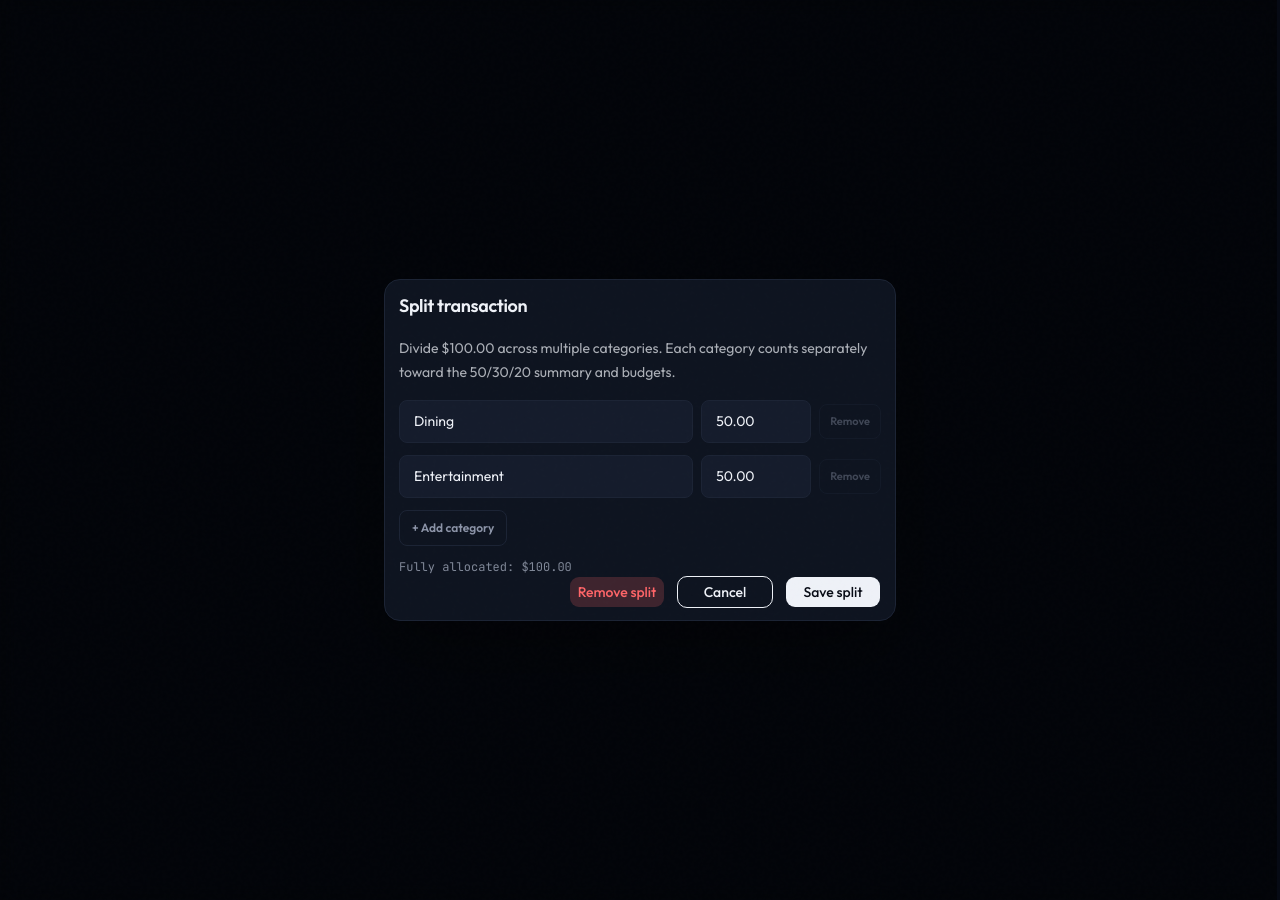
Test: SplitTransactionDialog › auto-fixes while a freshly added row is still blank, leaving that row untouched
Click the button "+ Add category" at (453, 528), box [399,510,507,546]
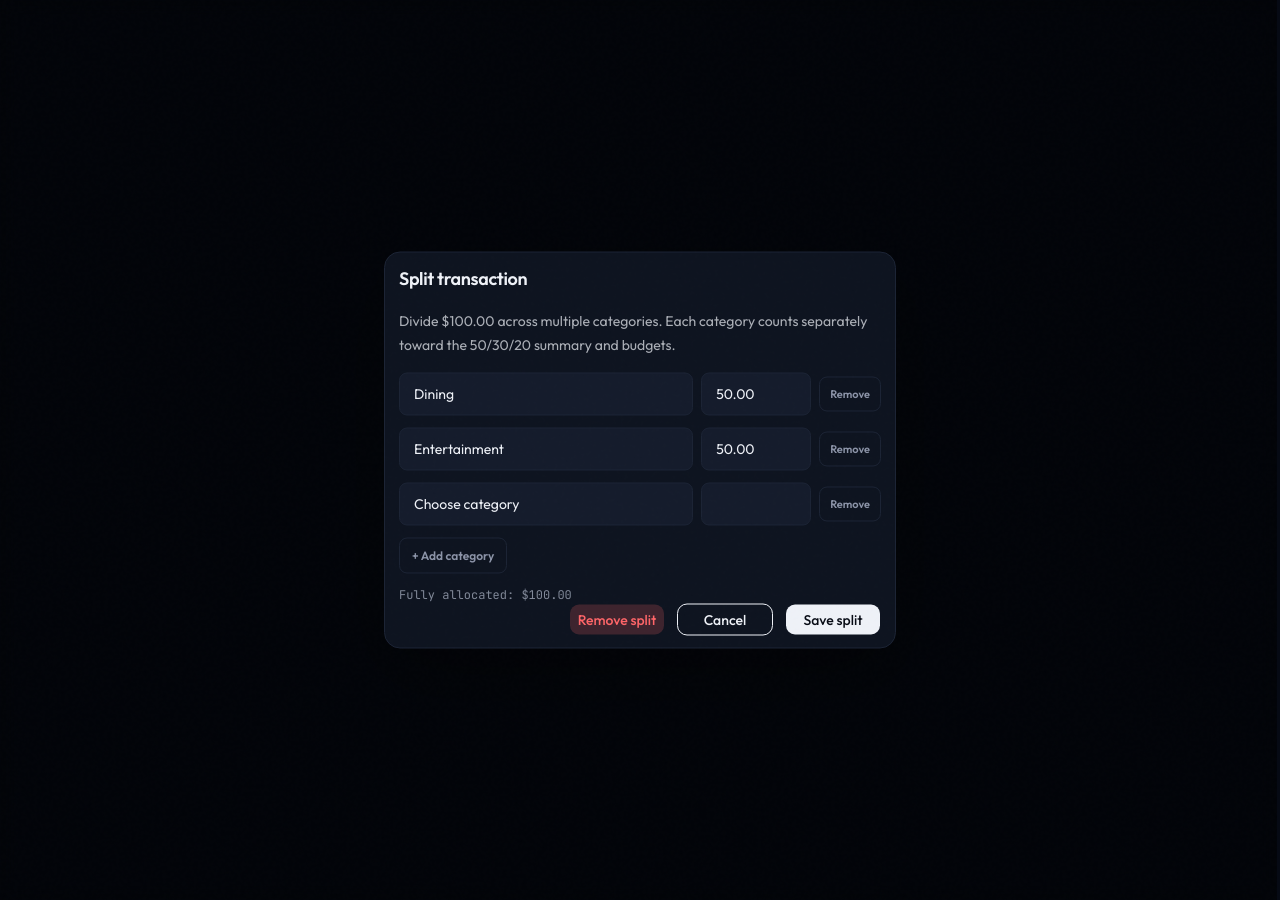
Replace the text in the number field named "Split 2 amount" with "2" at (756, 449), box [701,428,811,470]
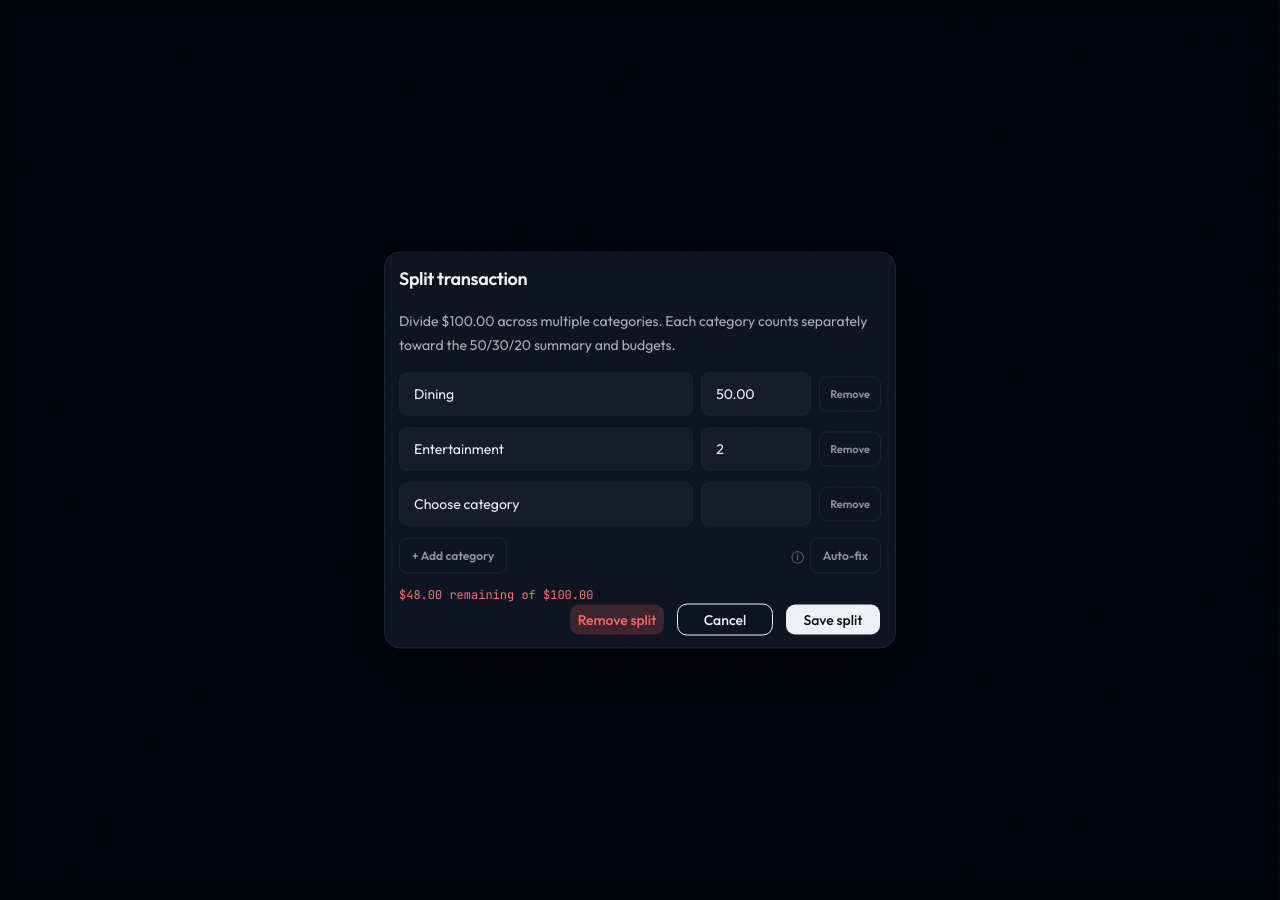
Click the button "Auto-fix" at (845, 556), box [810,538,881,574]
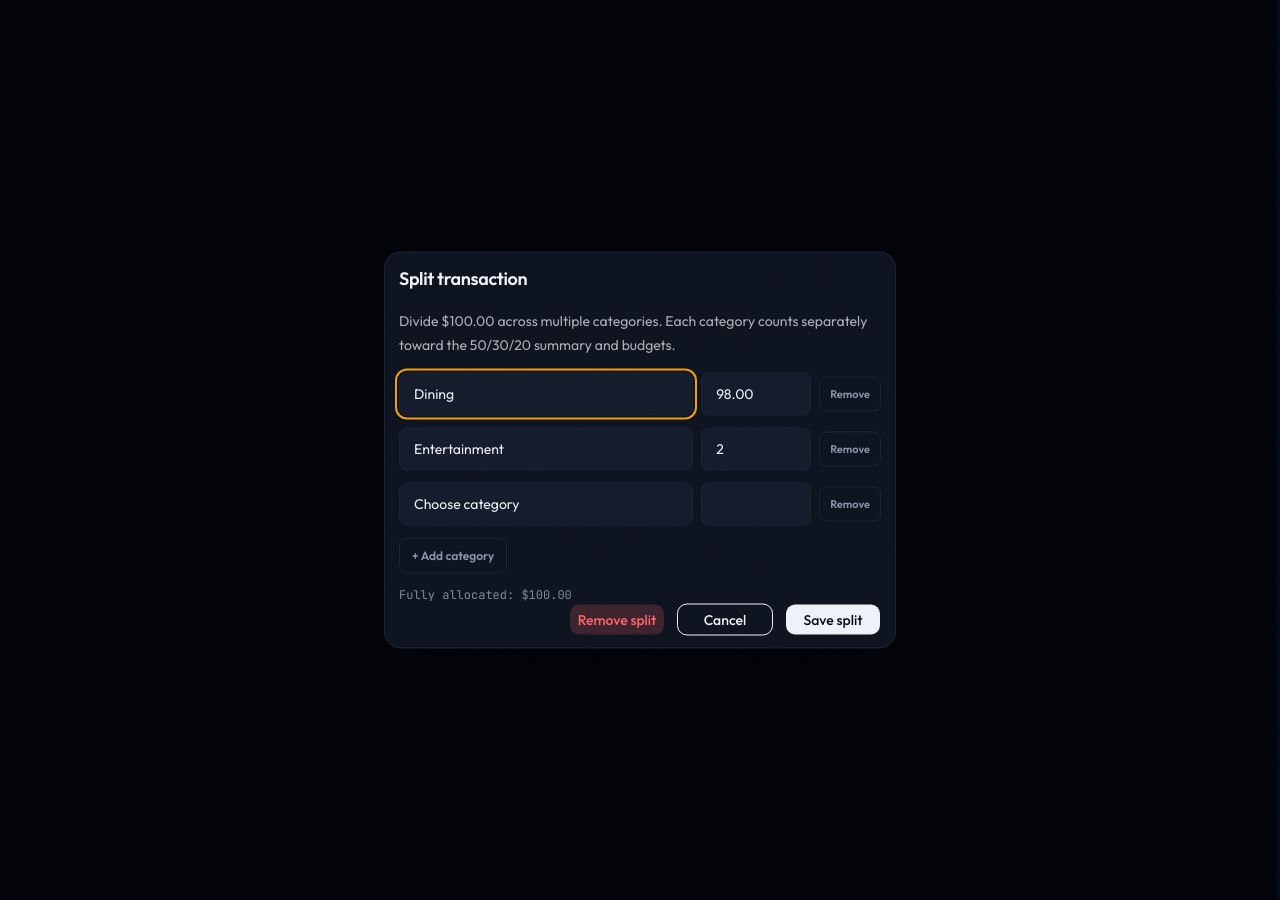
Expected: the number field named "Split 3 amount" is not empty, [701,482,811,526]
Now the number field named "Split 1 amount" holds "98", box [701,372,811,416]
Now the button "Auto-fix" is gone
